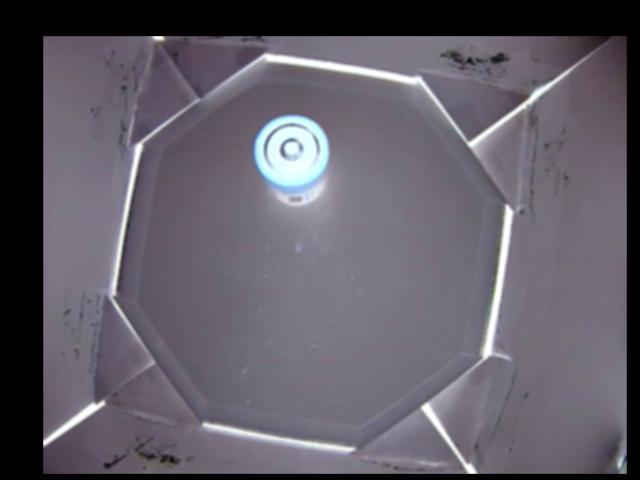Battery: (255, 115, 327, 204)
